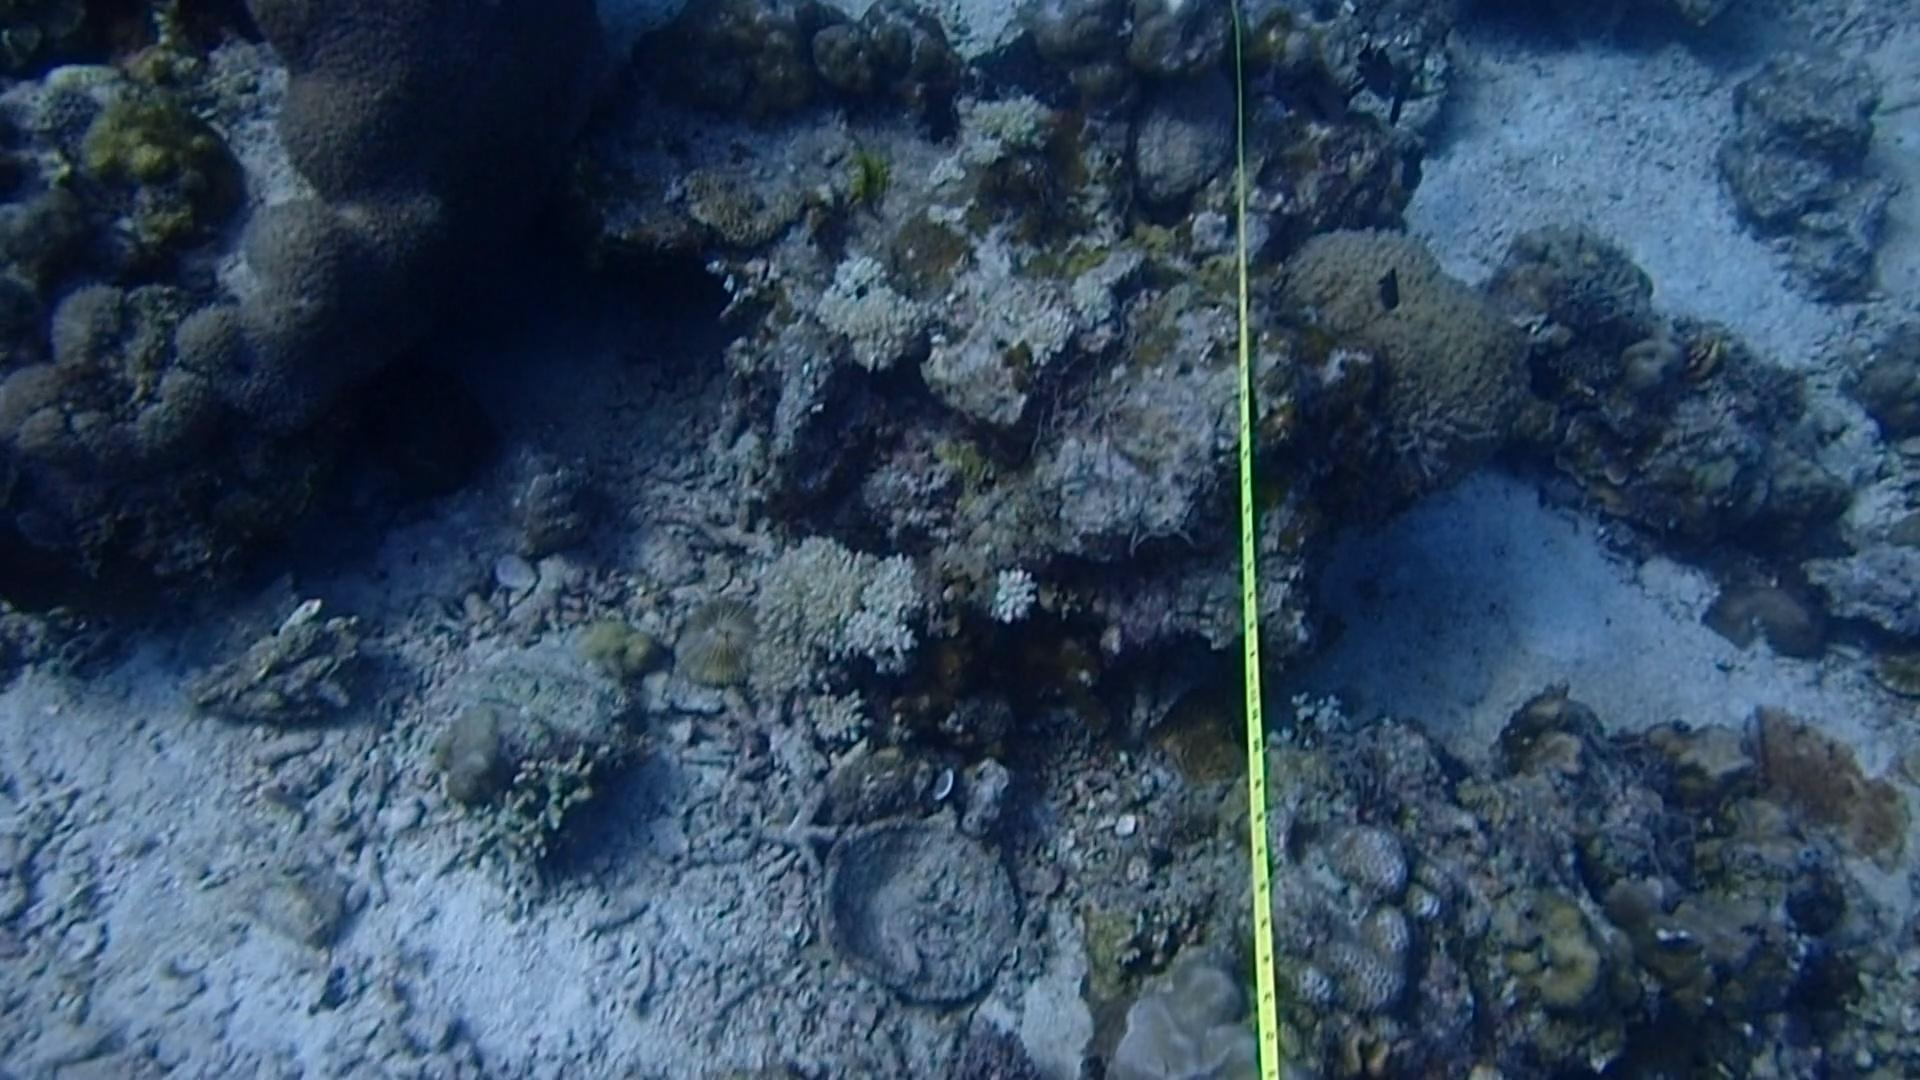Dark Fish: (1353, 36, 1408, 107), (1393, 138, 1441, 200), (1370, 253, 1414, 318)
